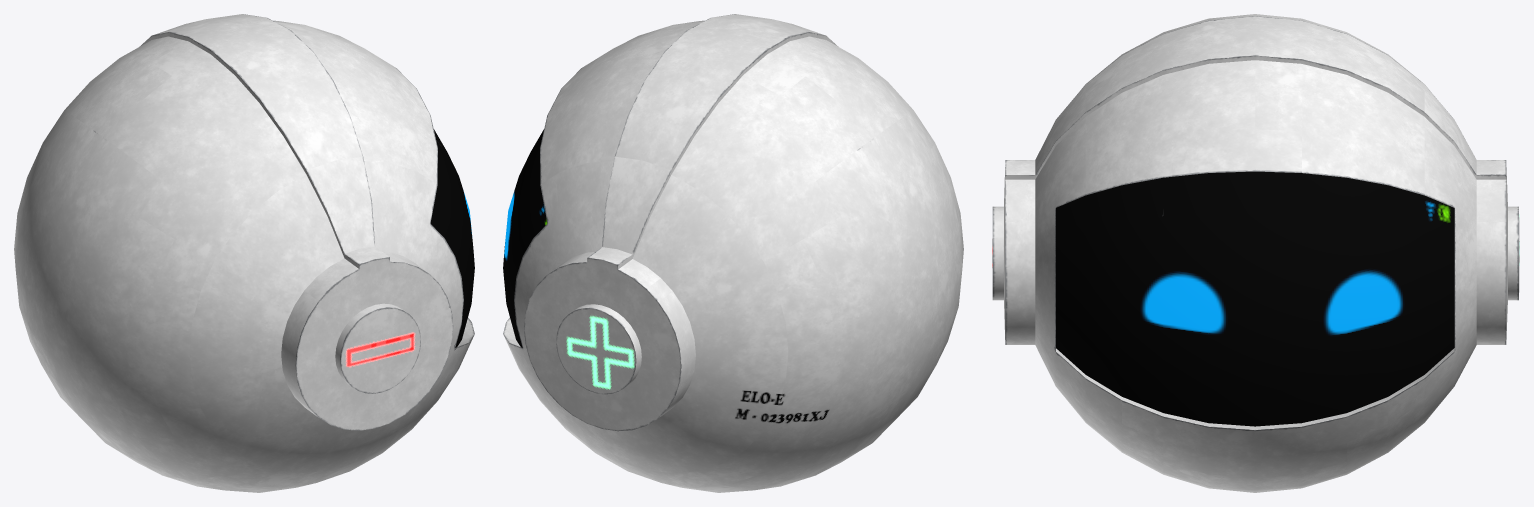
File: bothead.gltf.glb
The picture shows the model from 3 angles, left to right: view 1: azimuth 30°, elevation 25°; view 2: azimuth 150°, elevation 25°; view 3: azimuth 270°, elevation 25°; orthographic projection.
Visible parts, largest first — view 1: Sphere001; view 2: Sphere001; view 3: Sphere001.
Boxes of the visible parts, bbox=[...] form: Sphere001: bbox=[14, 14, 474, 492]; Sphere001: bbox=[503, 14, 963, 492]; Sphere001: bbox=[992, 14, 1519, 492].
Bounding box in the file's own units: 0.3968 × 0.414 × 0.4507.
1 material, 1 textured.
